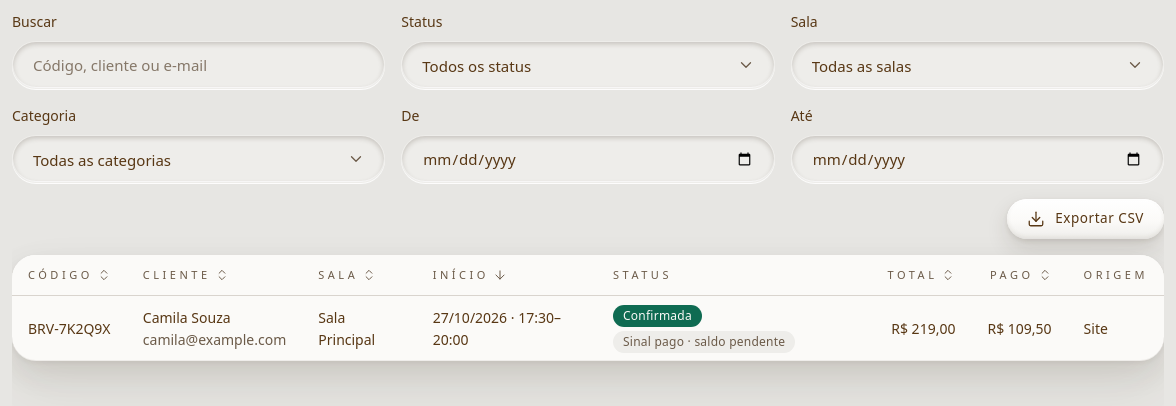
Scenario: BookingsListPage search and filters (NUC-179) › keeps the search in ?q= and refetches with it
This screenshot has width=1176, height=406.
expect the text "BRV-7K2Q9X" is shown: met, box [12,296,127,361]
In the search field labelled "Buscar": [199, 65] box [12,41,385,89], type "BRV-"
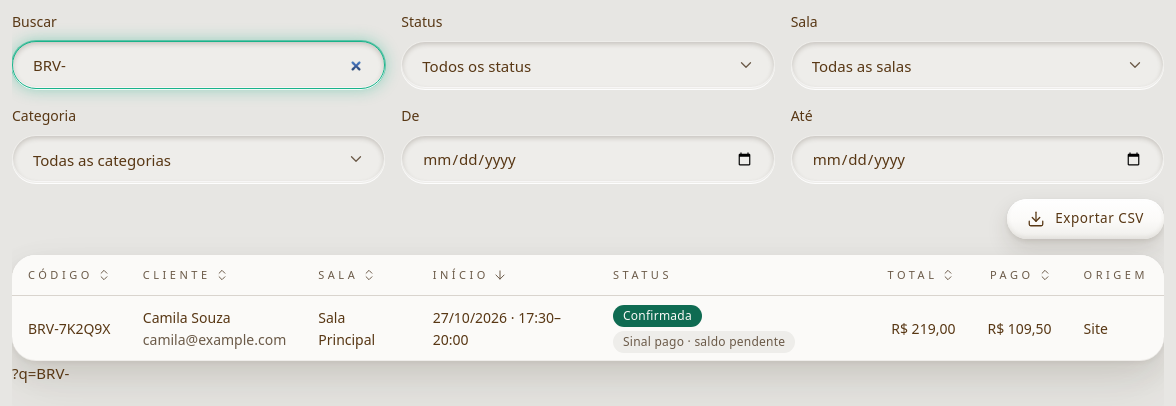
expect the text with test id "where" reads "?q=BRV-": met, box [12,363,69,383]
